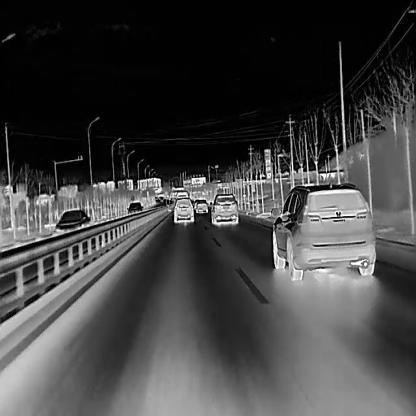car: (271, 178, 376, 280), (52, 207, 90, 241), (209, 192, 238, 225), (172, 196, 193, 223), (126, 201, 143, 218), (195, 200, 207, 213)
